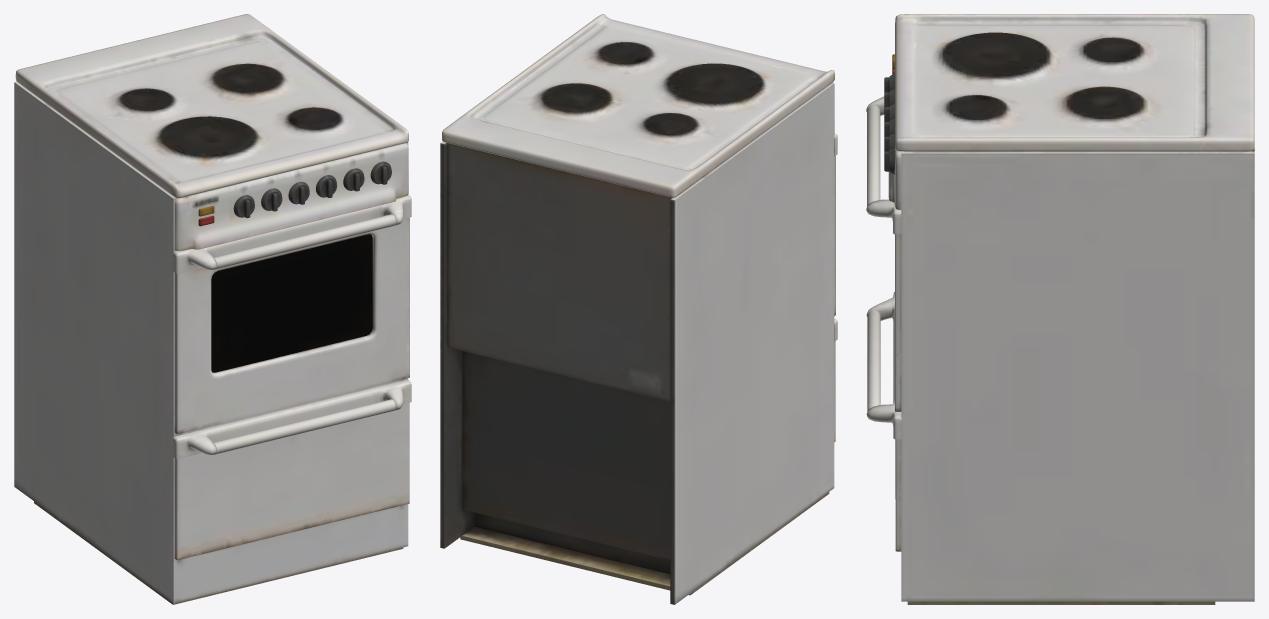
Rendered from electric_stove.glb.
3 views of the same model, side by side, from view 1: azimuth 30°, elevation 25°; view 2: azimuth 150°, elevation 25°; view 3: azimuth 270°, elevation 25° (orthographic). The views are drawn at different scales.
Visible parts, largest first — view 1: stovetop, door_top, handle_bottom_attachment; view 2: stovetop; view 3: stovetop, door_top, handle_bottom_attachment.
Boxes of the visible parts, x1,y1,x2,y2 form: stovetop: (14,14,408,604); door_top: (173,195,411,433); handle_bottom_attachment: (173,380,411,559); stovetop: (440,14,834,604); stovetop: (888,14,1254,604); door_top: (866,96,901,411); handle_bottom_attachment: (866,291,901,551).
Size of the model in its own units: 0.5026 by 0.8587 by 0.6476.
Materials: 2 (2 with a texture image).
